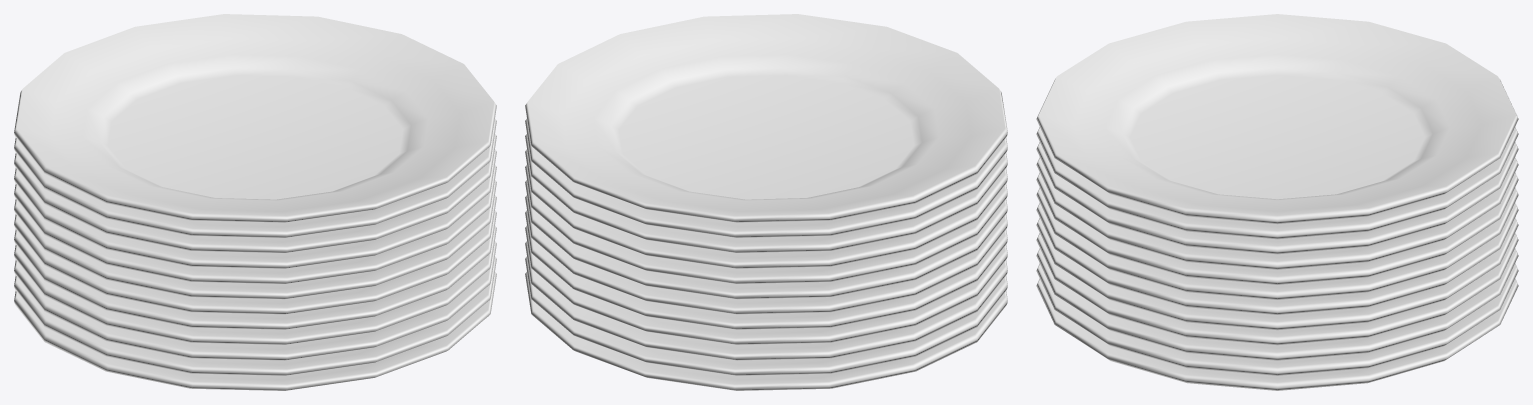
Rendered from SM_Kitchen_Dishpile.fbx.
3 renders of one model, left to right at view 1: azimuth 30°, elevation 25°; view 2: azimuth 150°, elevation 25°; view 3: azimuth 270°, elevation 25°, orthographic.
Parts seen in each view (by area): view 1: SM_Dishpile; view 2: SM_Dishpile; view 3: SM_Dishpile.
Part boxes in pixels (box(x1,y1,x2,y2)): SM_Dishpile: box(14, 14, 496, 390); SM_Dishpile: box(525, 14, 1007, 390); SM_Dishpile: box(1036, 14, 1518, 390).
Bounding box in the file's own units: 31.07 × 14.53 × 31.07.
